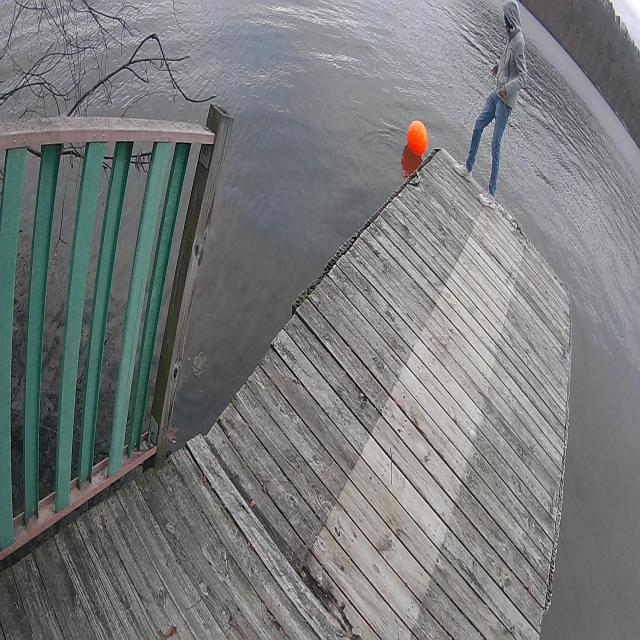Buoy: (406, 119, 428, 158)
